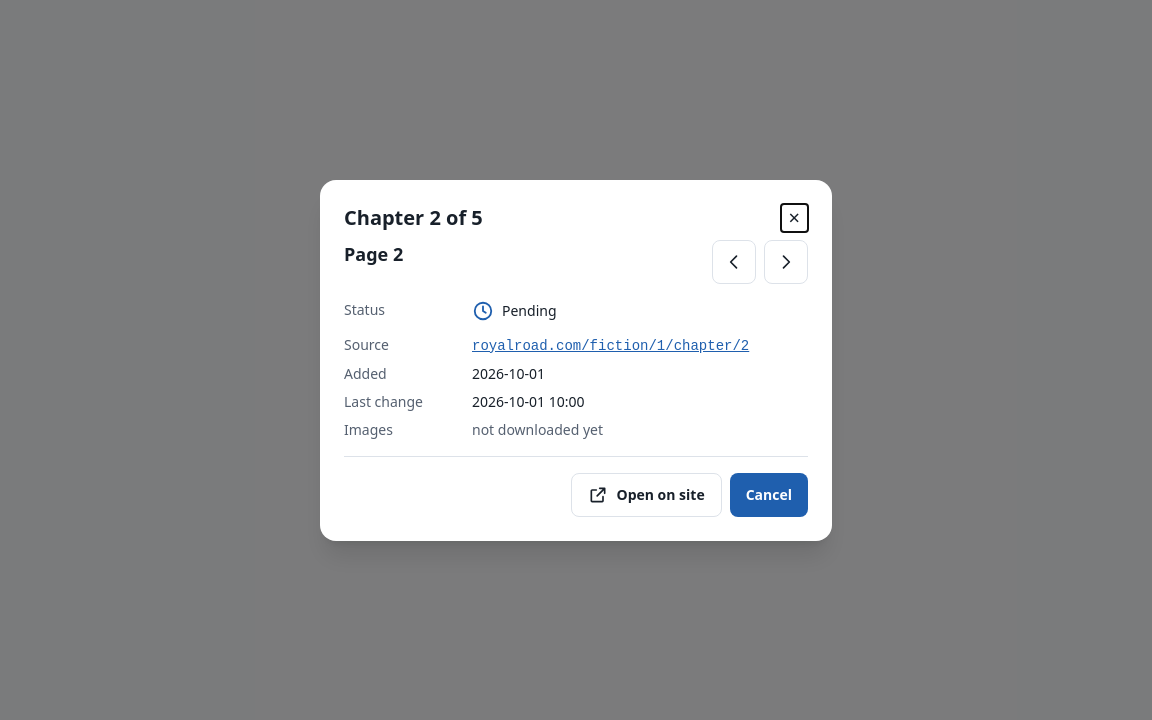
Test: ChapterDetails › primary action › Cancel on a pending chapter › asks first, naming the export and saying it will fail
Click the button "Cancel" at (769, 494), box [730,472,808,516]
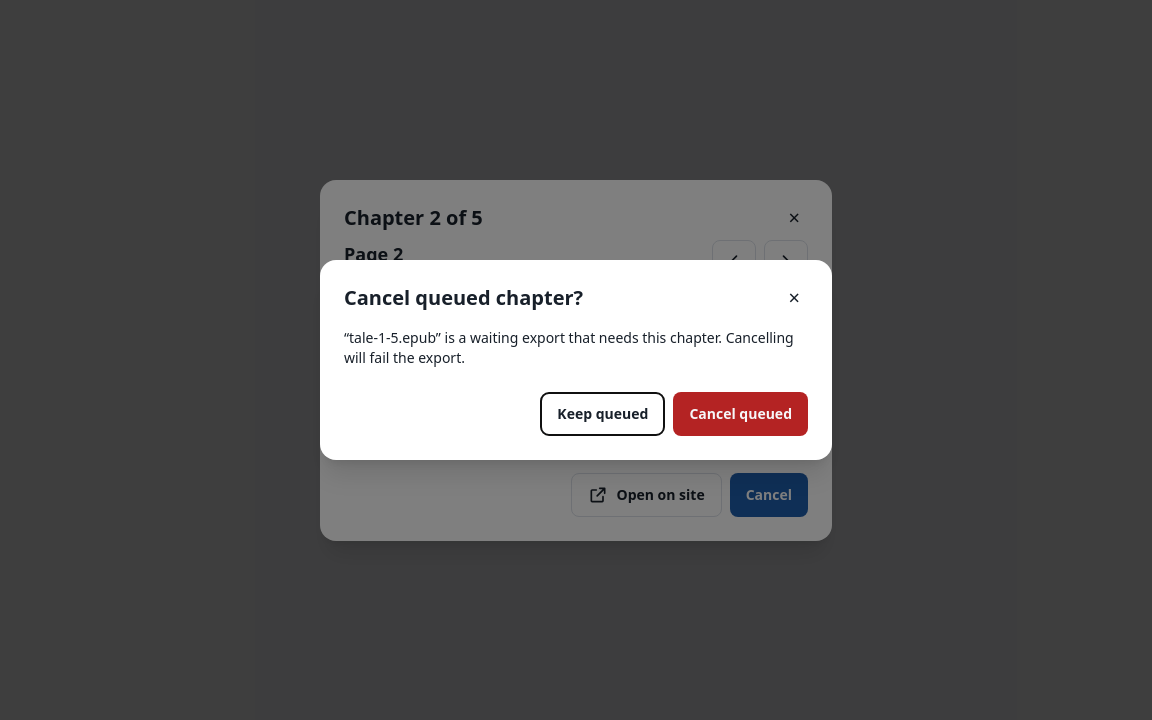
Check: the dialog that starts with "Cancel queued chapter?" shows "tale-1-5.epub", box [344,328,441,347]
Check: the dialog that starts with "Cancel queued chapter?" shows "will fail the export", box [320,260,832,460]
